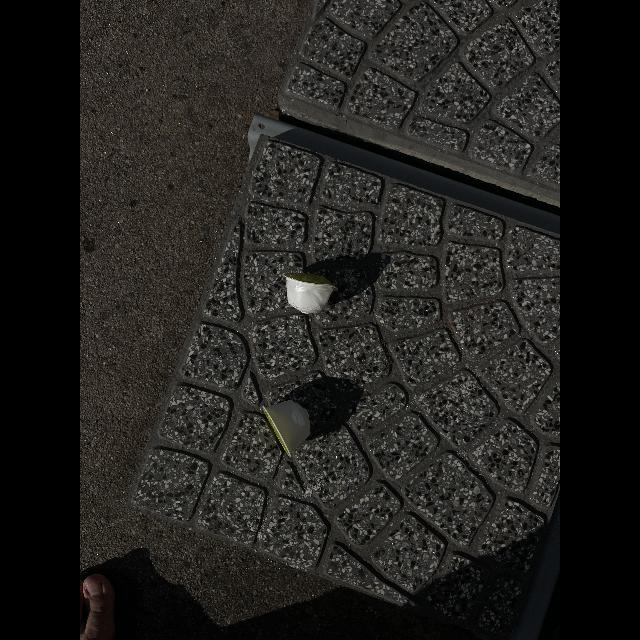damaged_capsule: (280, 270, 340, 316)
intact_capsule: (259, 398, 317, 460)
